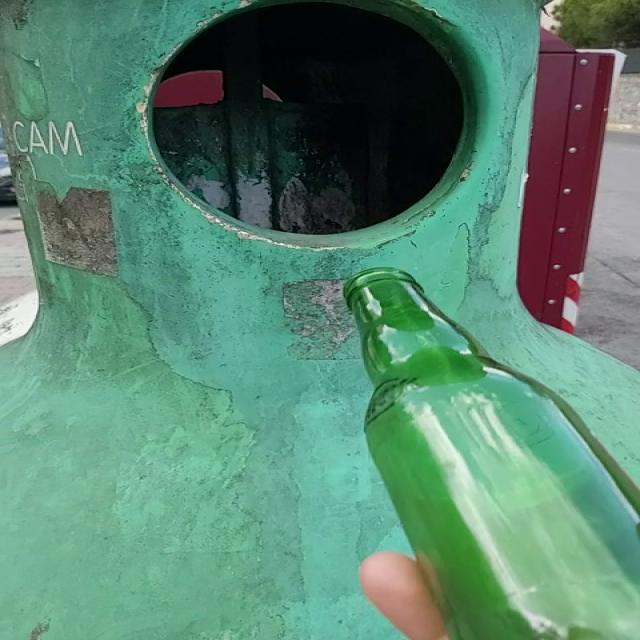glass: (344, 268, 640, 640)
